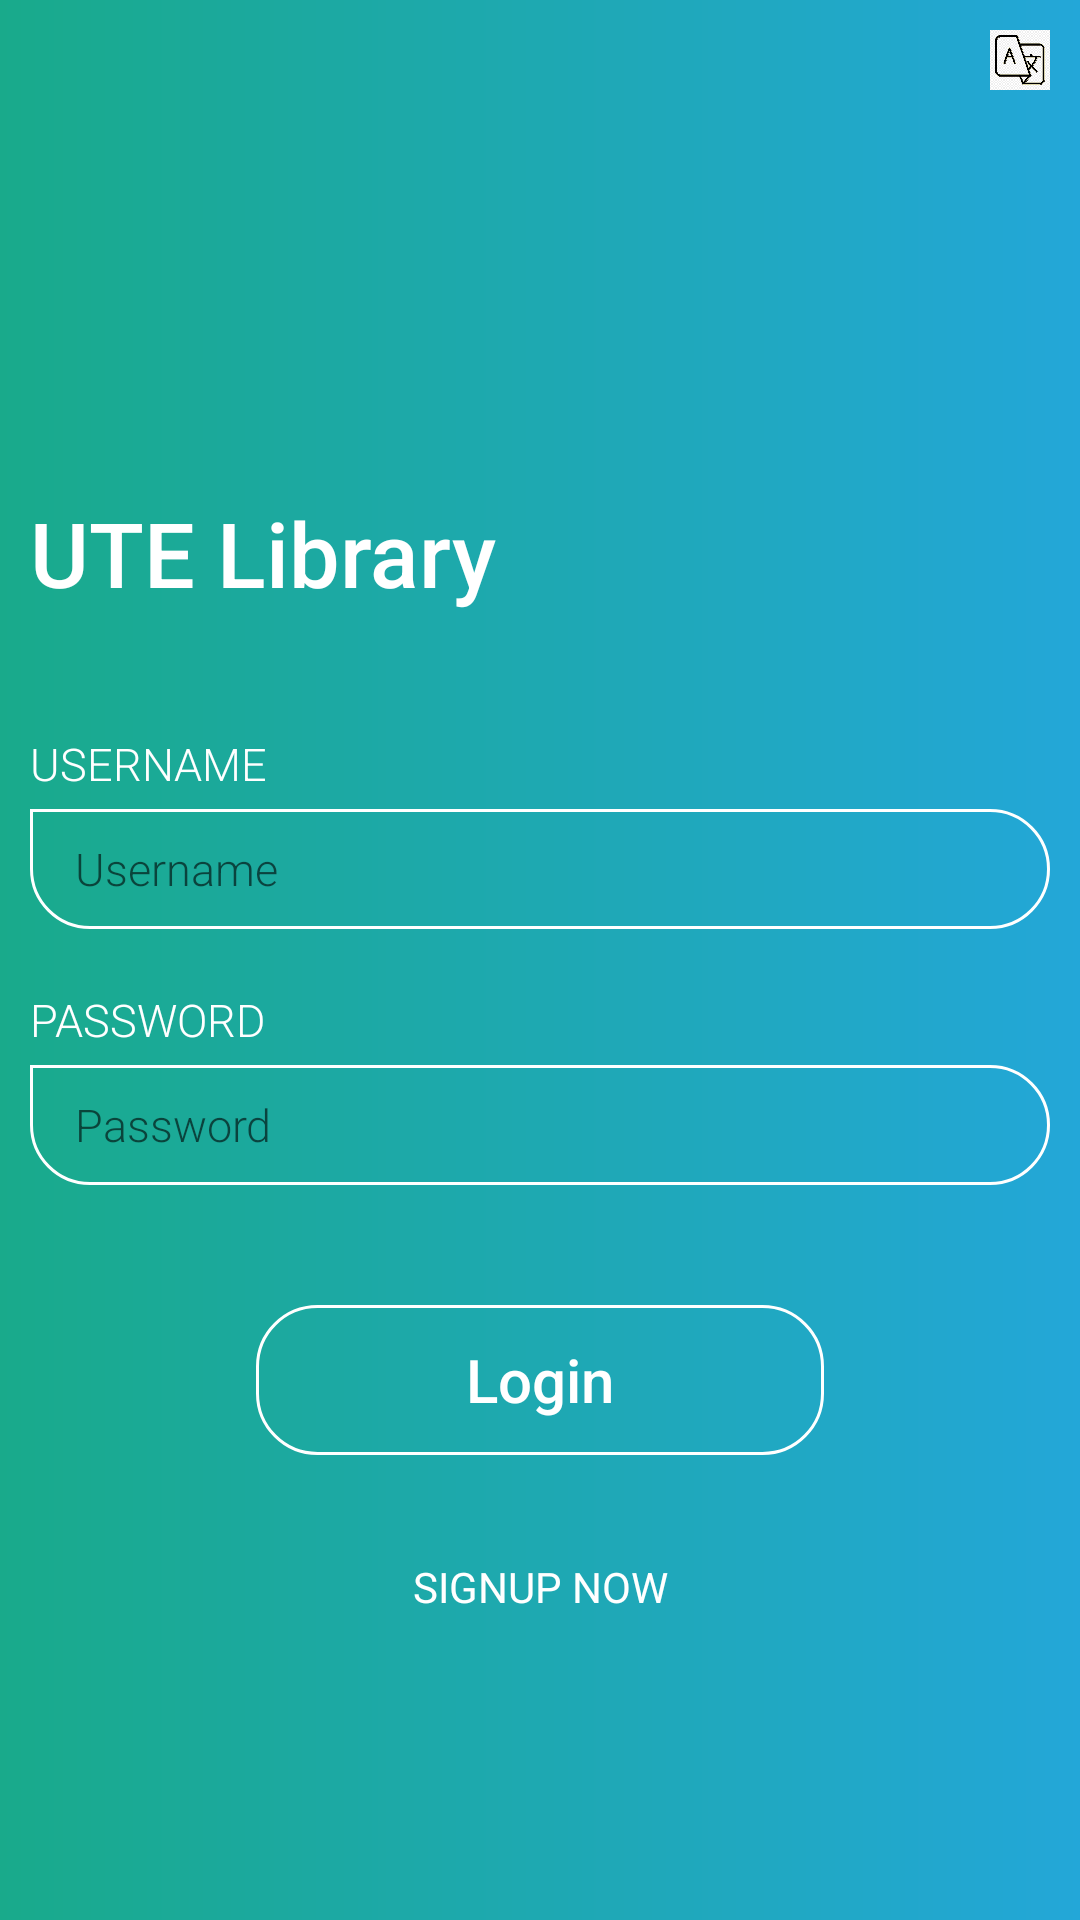

Where icons sit on this 1080 × 1920 app screen, as box(x1, y1, x2, y2):
laguage: box(990, 30, 1050, 90)
